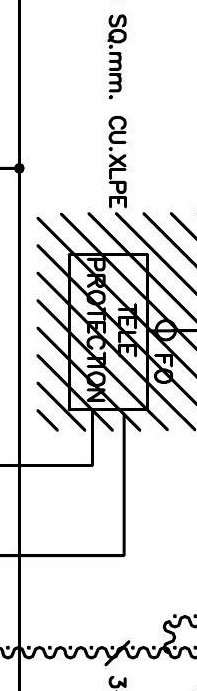tele_protection: (65, 250, 152, 414)
